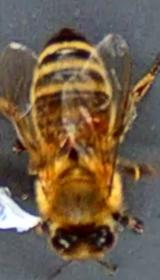varroa_mite: (74, 108, 113, 144)
